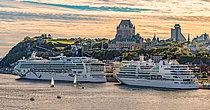Ship: (11, 50, 112, 88), (114, 58, 204, 94)
